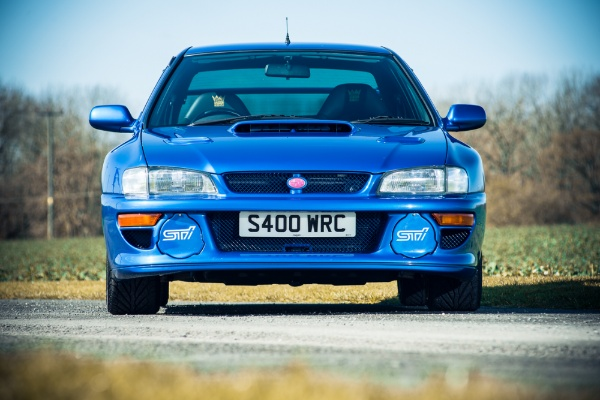licence: (237, 206, 358, 238)
